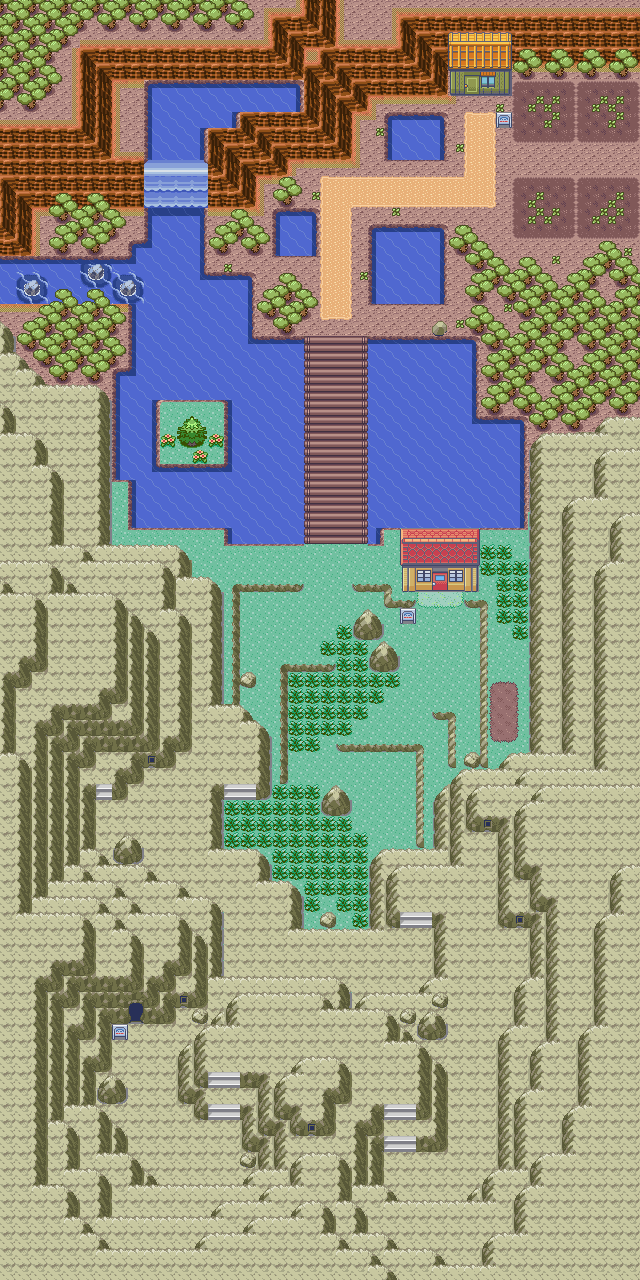cave: (108, 987, 163, 1027)
normal_house: (398, 524, 484, 595), (444, 26, 516, 101)
